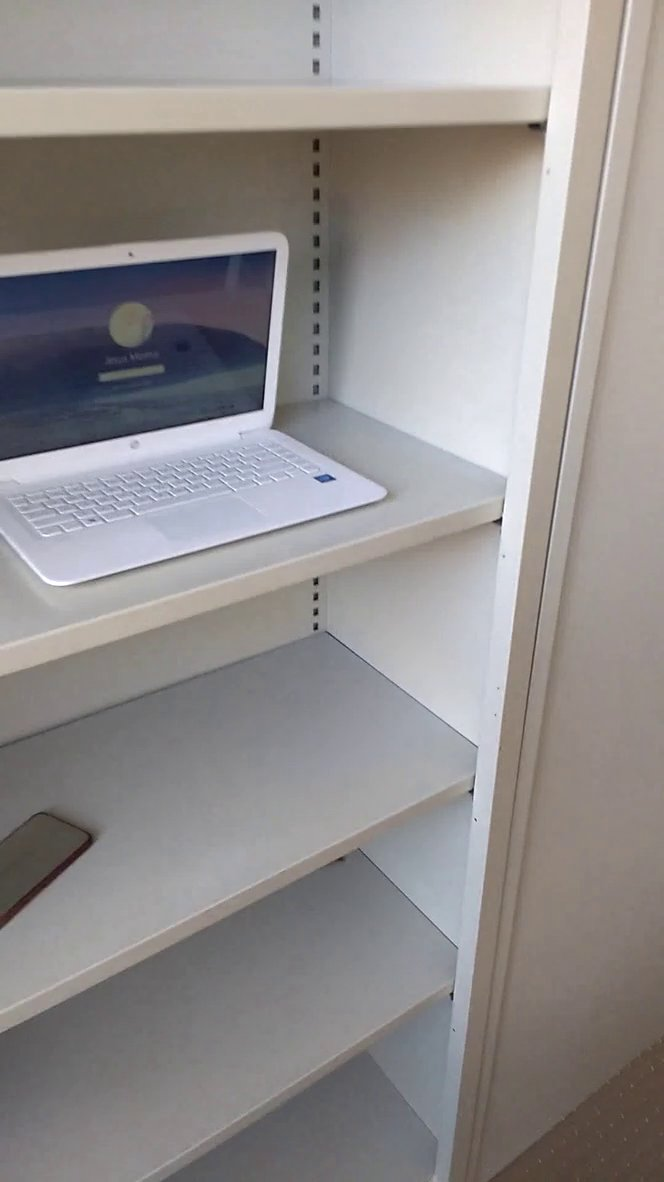laptop: (1, 200, 407, 626)
